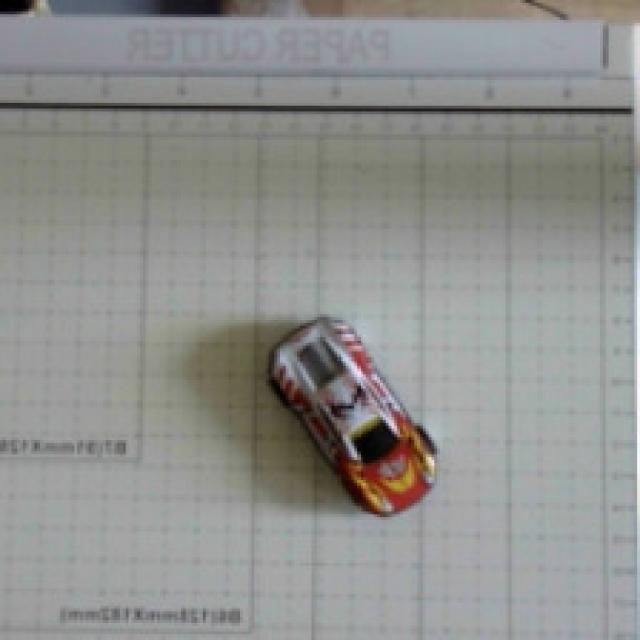Red Car: (213, 283, 483, 536)
